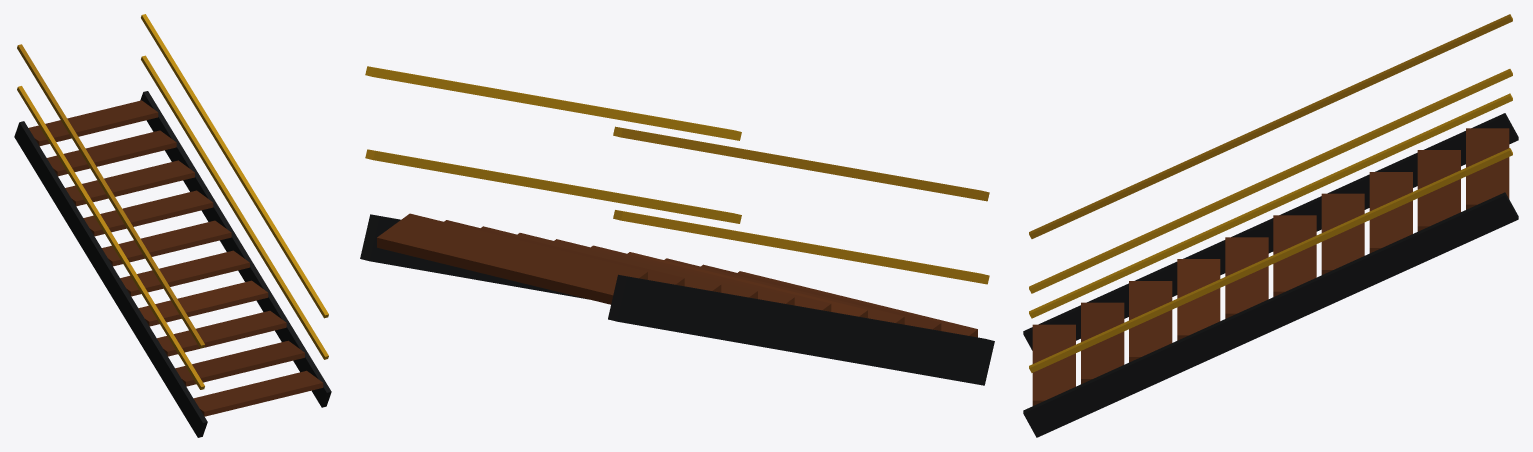
The model's file is kit_catwalk_stairs.glb.
3 renders of one model, left to right at view 1: azimuth 30°, elevation 25°; view 2: azimuth 150°, elevation 25°; view 3: azimuth 270°, elevation 25°, orthographic. The views are drawn at different scales.
Visible parts, largest first — view 1: Mesh; view 2: Mesh; view 3: Mesh.
Boxes of the visible parts, x1,y1,x2,y2 form: Mesh: (14,14,331,437); Mesh: (360,66,994,385); Mesh: (1023,14,1518,437).
Size of the model in its own units: 1.62 by 3.14 by 4.12.
